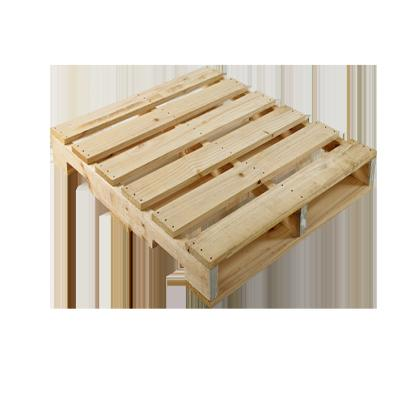BoxFace: (49, 63, 377, 309)
